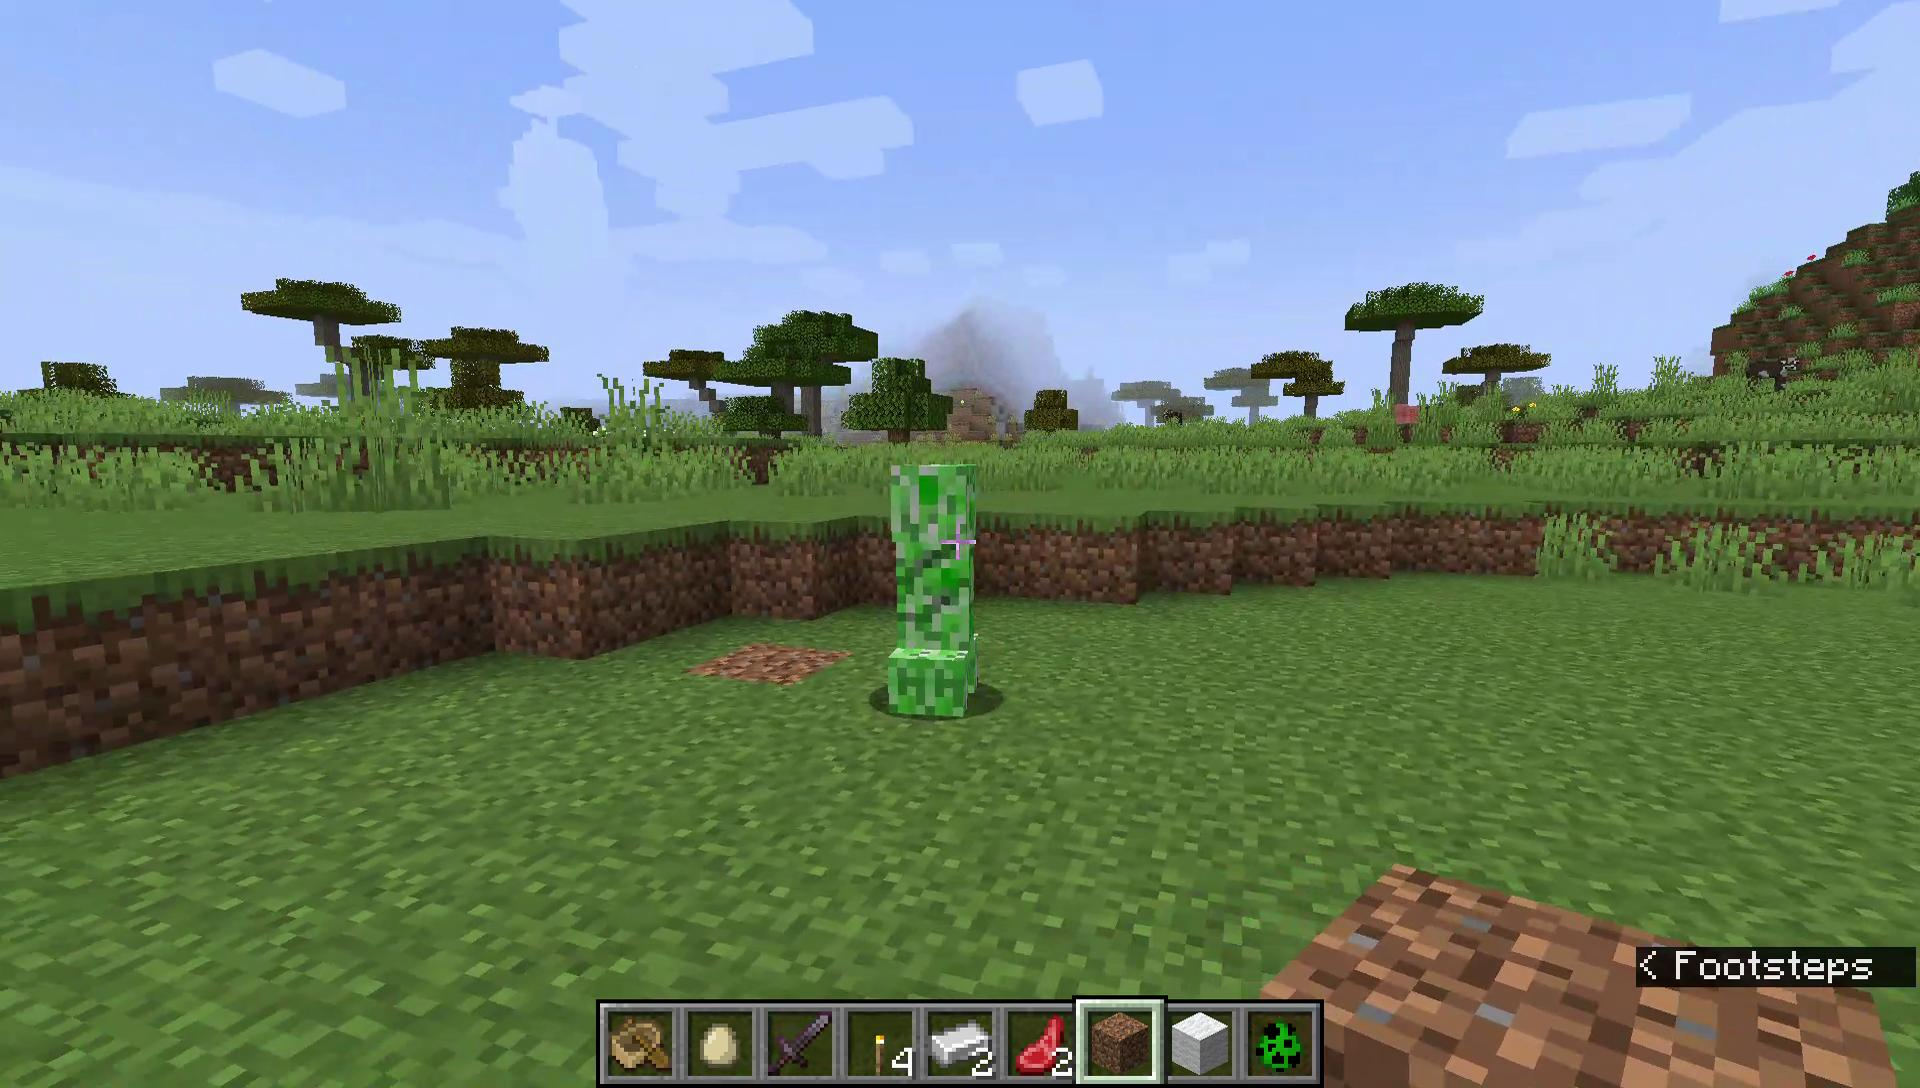cow: (1742, 349, 1801, 397), (1160, 404, 1188, 434)
creeper: (885, 454, 985, 720)
pig: (1391, 400, 1422, 430)
